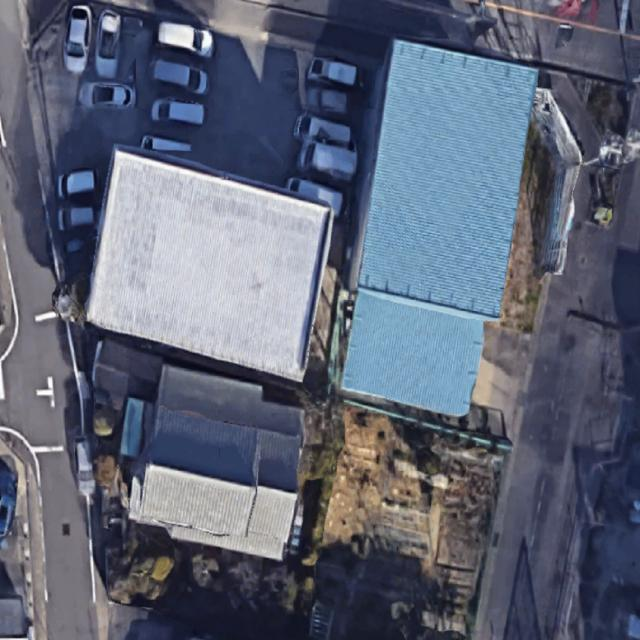Batiment: (342, 40, 538, 415), (86, 148, 332, 381), (121, 364, 302, 561)
